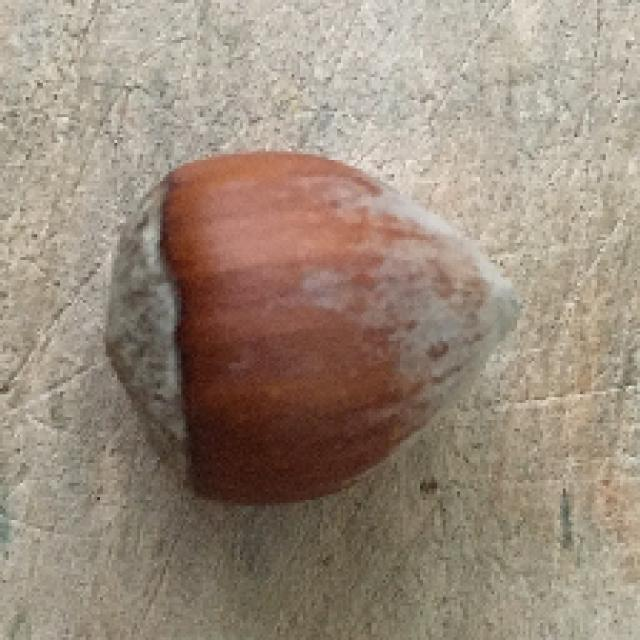qualityHazelnut: (106, 128, 532, 511)
